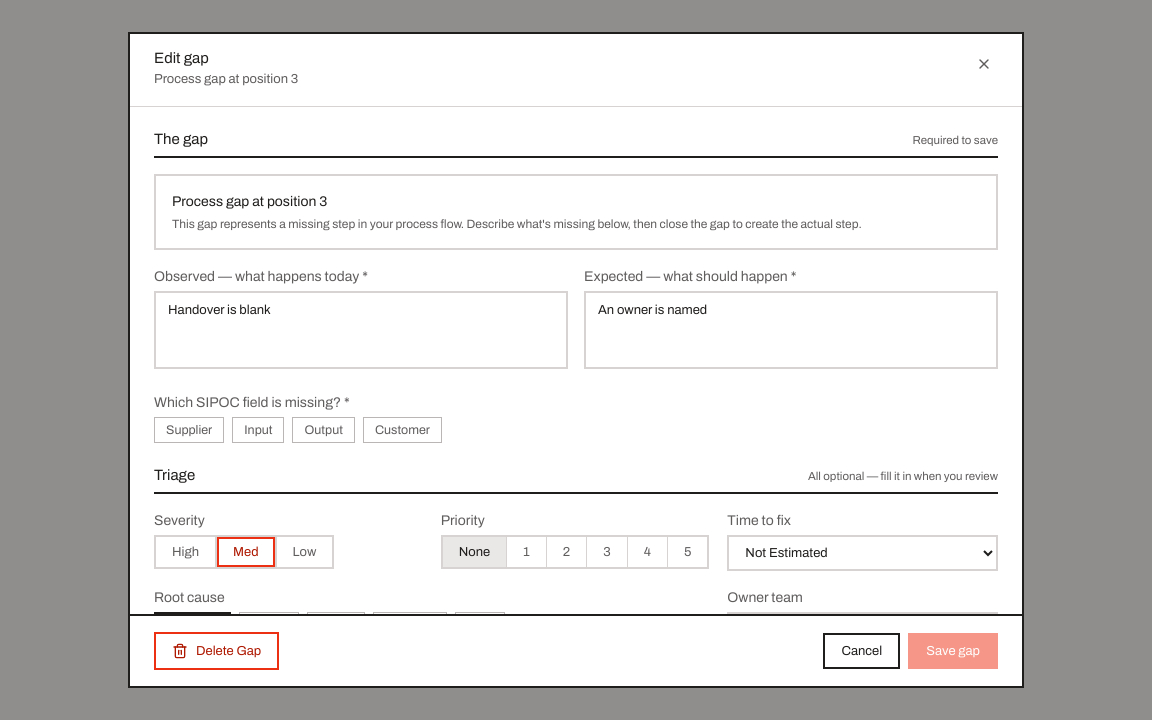
Test case: GapForm process positions (#345) › promises a shift when later rows share the milestone
Click the button "Delete Gap": {"x": 217, "y": 651} [154,632,279,670]
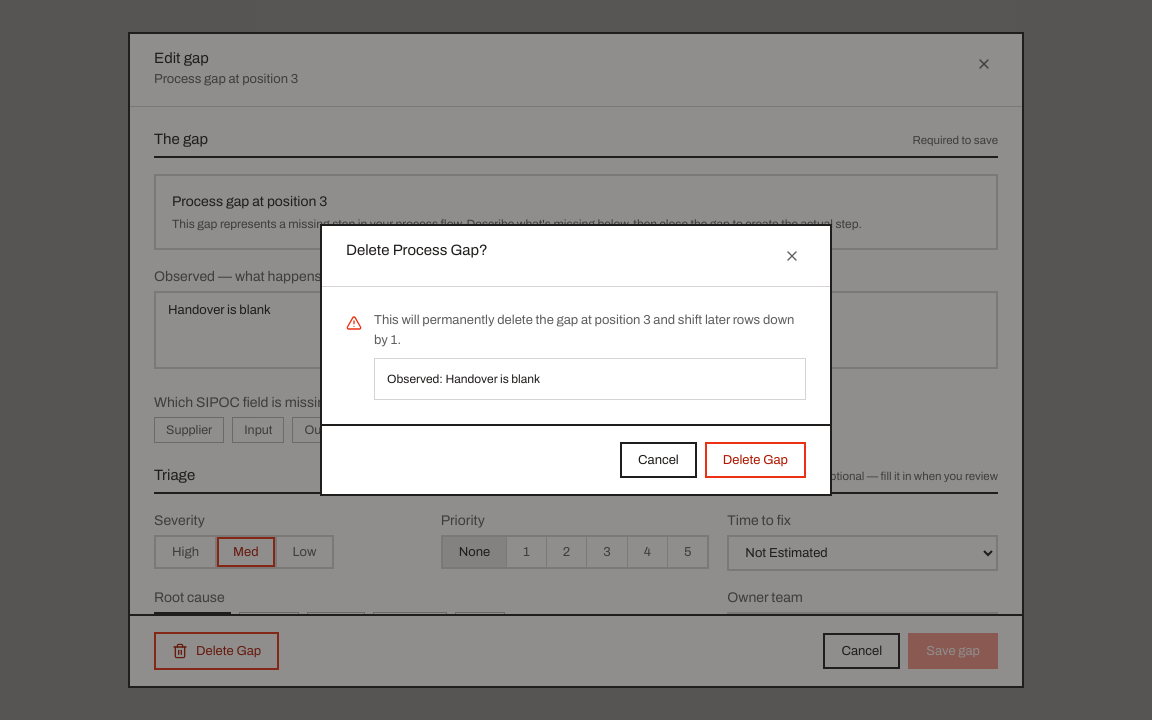
Now the text "This will permanently delete the gap at position 3 and shift later rows down by 1." is shown, box [374,313,794,346]
